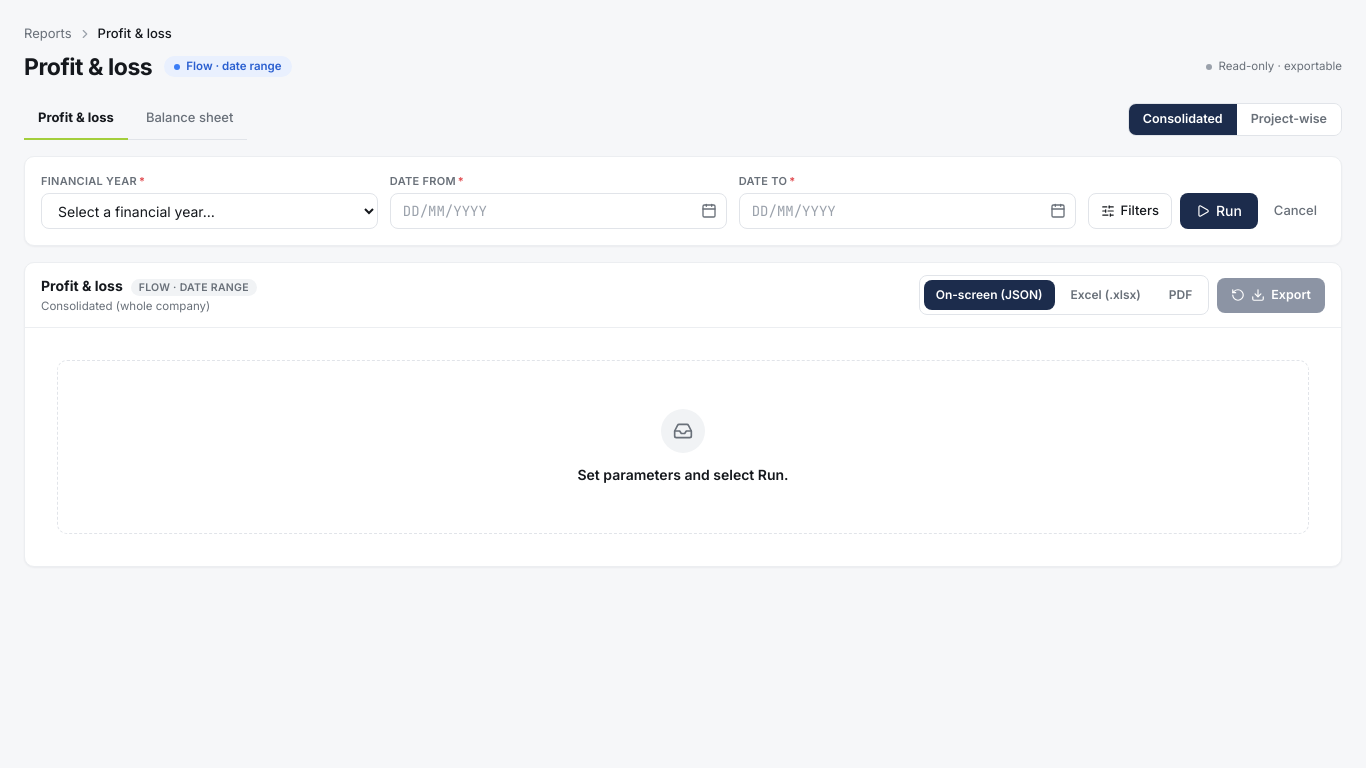
Financial statements — P&L body (FR-RPT-013) › renders a Loss (parenthesised + 'Loss' label — not colour-alone)
Expected: the element with test id "report-parameter-panel" is shown, top-left (24, 156), bottom-right (1342, 246)
Type "01/04/2026" into the field labelled "Date from*" at coordinates (558, 211), box top-left (390, 193), bottom-right (727, 229)
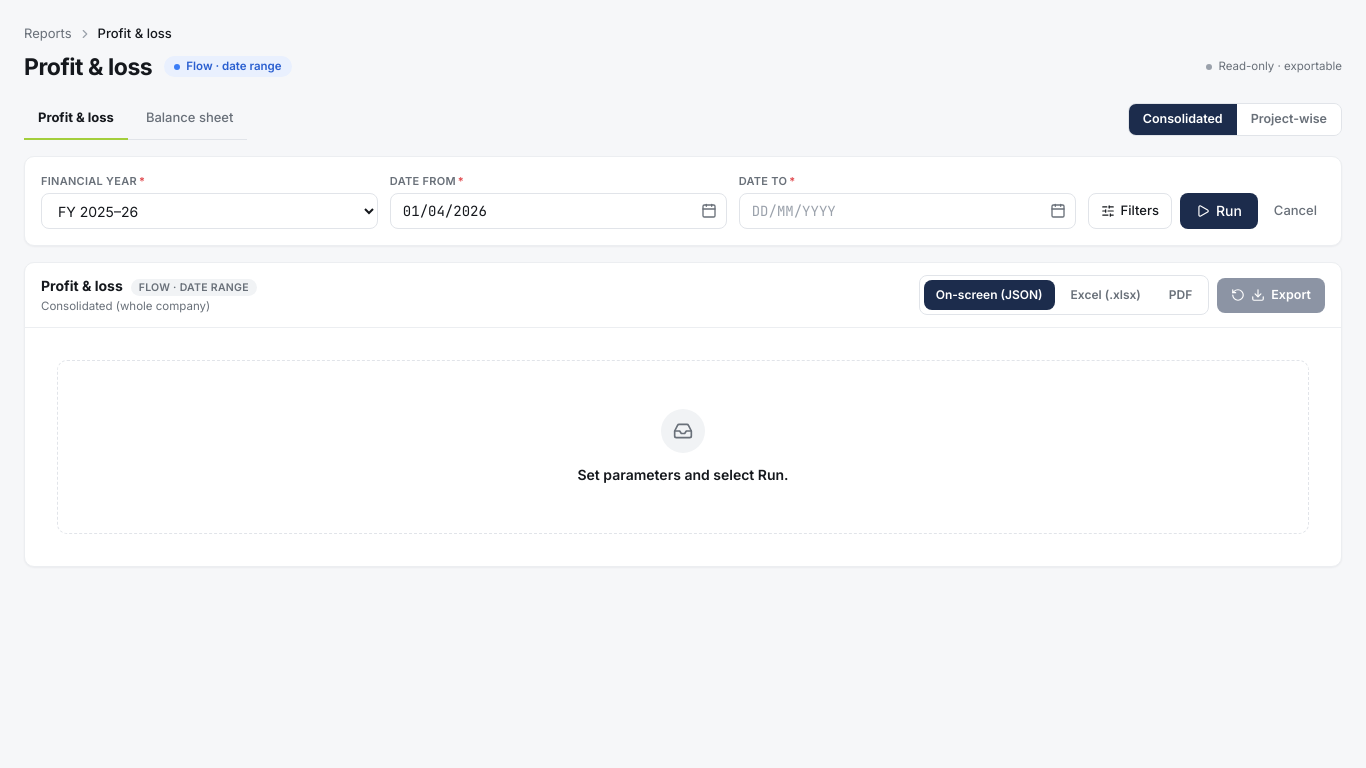
Type "30/06/2026" into the field labelled "Date to*" at coordinates (907, 211), box top-left (739, 193), bottom-right (1076, 229)
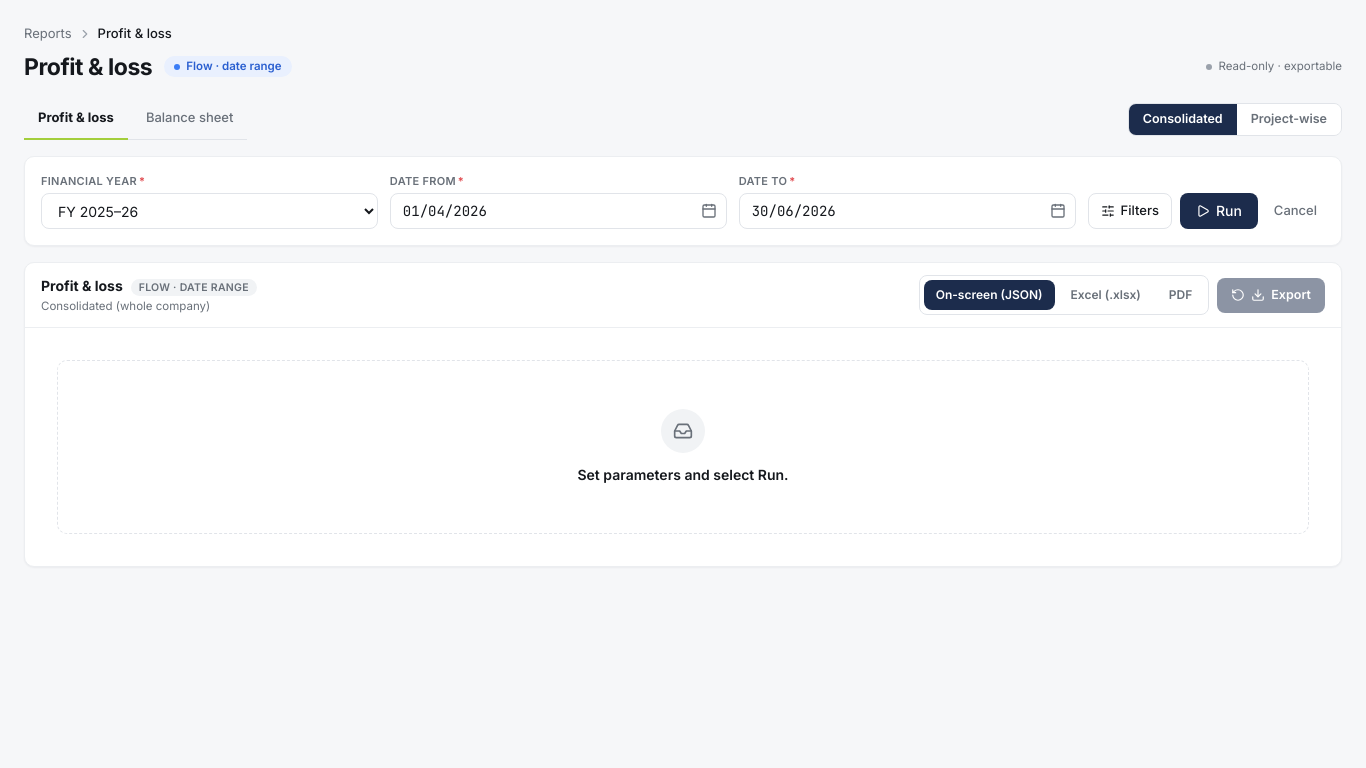
Click the button with test id "report-run" at coordinates (1219, 211), box top-left (1180, 193), bottom-right (1258, 229)
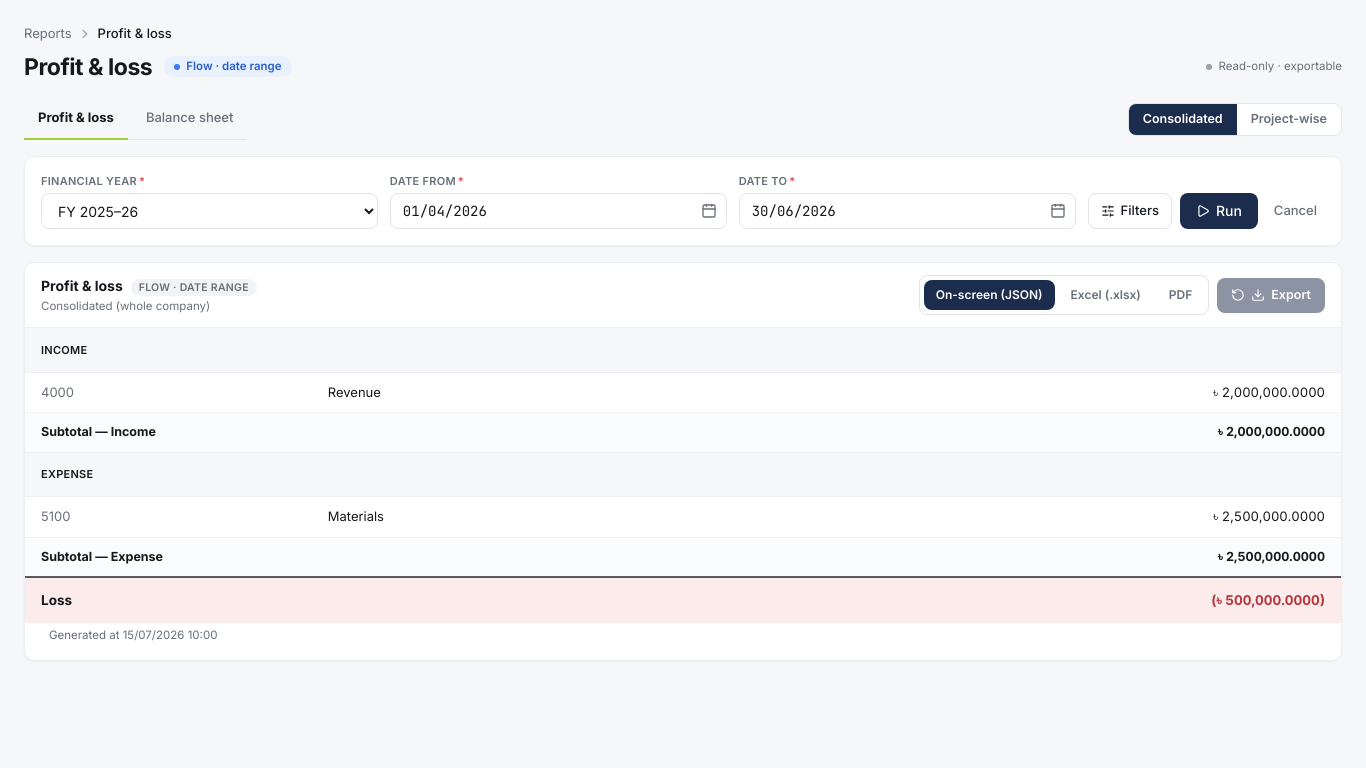
Result: the element with test id "pnl-statement" is shown at top-left (25, 328), bottom-right (1341, 660)
Result: the row with test id "pnl-band" shows "Loss" at top-left (41, 592), bottom-right (72, 608)
Result: the row with test id "pnl-band" reads "Loss (৳ 500,000.0000)" at top-left (1211, 592), bottom-right (1325, 608)
